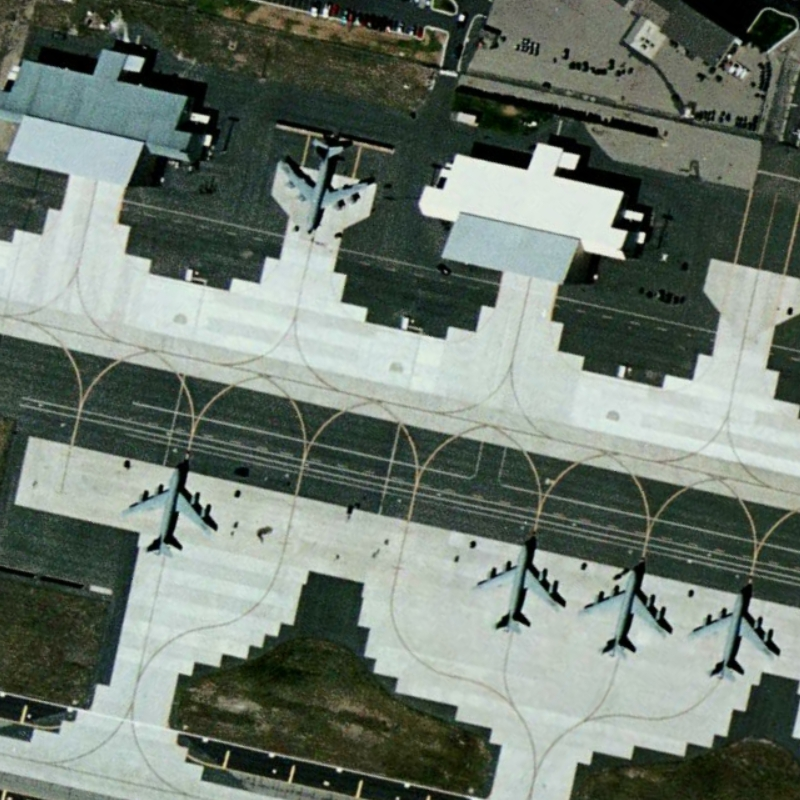A14: (273, 127, 375, 237), (471, 527, 568, 642), (687, 575, 782, 689), (576, 554, 674, 660), (122, 457, 220, 561)
